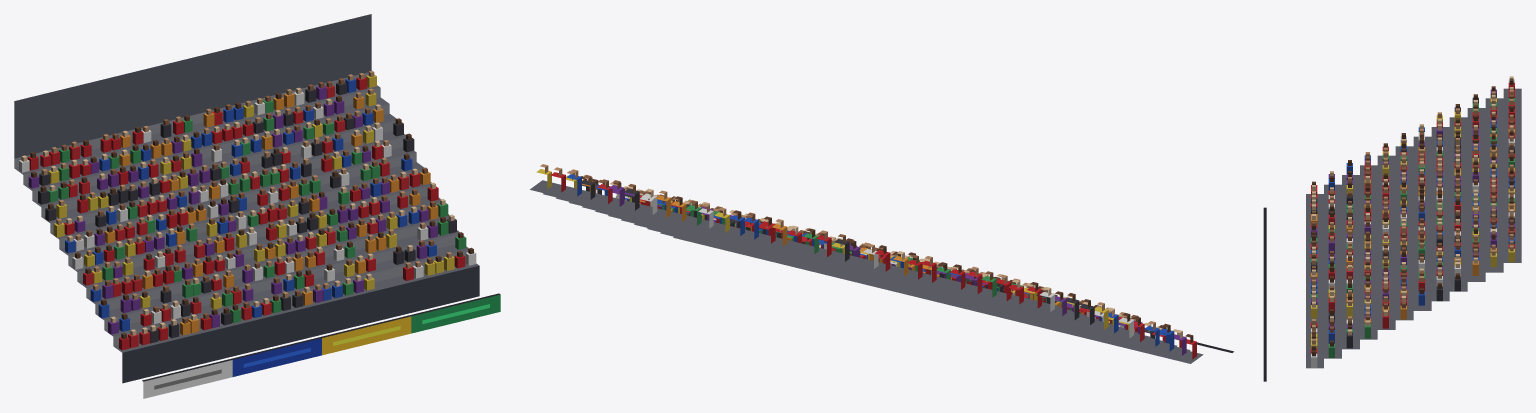
File: stand_long_a_hd.glb
3 renders of one model, left to right at view 1: azimuth 30°, elevation 25°; view 2: azimuth 150°, elevation 25°; view 3: azimuth 270°, elevation 25°, orthographic. The views are drawn at different scales.
Parts seen in each view (by area): view 1: stand_long_a; view 2: stand_long_a; view 3: stand_long_a.
Boxes of the visible parts, x1=… form: stand_long_a: x1=14, y1=14, x2=500, y2=398; stand_long_a: x1=530, y1=164, x2=1233, y2=363; stand_long_a: x1=1263, y1=76, x2=1521, y2=381.
Bounding box in the file's own units: 19.51 × 11 × 12.21.
